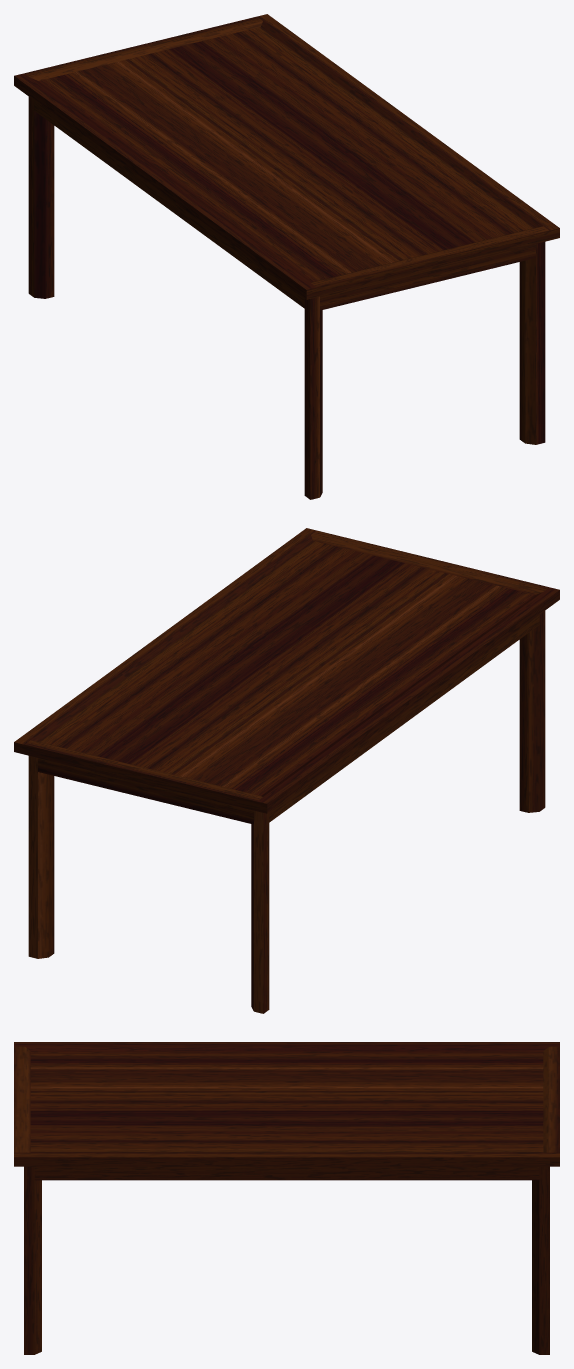
Rendered from Table01.fbx.
3 renders of one model, top to bottom at view 1: azimuth 30°, elevation 25°; view 2: azimuth 150°, elevation 25°; view 3: azimuth 270°, elevation 25°, orthographic. The views are drawn at different scales.
Visible parts, largest first — view 1: Box002; view 2: Box002; view 3: Box002.
Boxes of the visible parts, x1=… form: Box002: x1=14, y1=14, x2=559, y2=499; Box002: x1=14, y1=528, x2=559, y2=1013; Box002: x1=14, y1=1042, x2=559, y2=1354.
Bounding box in the file's own units: 90 × 73.35 × 180.
